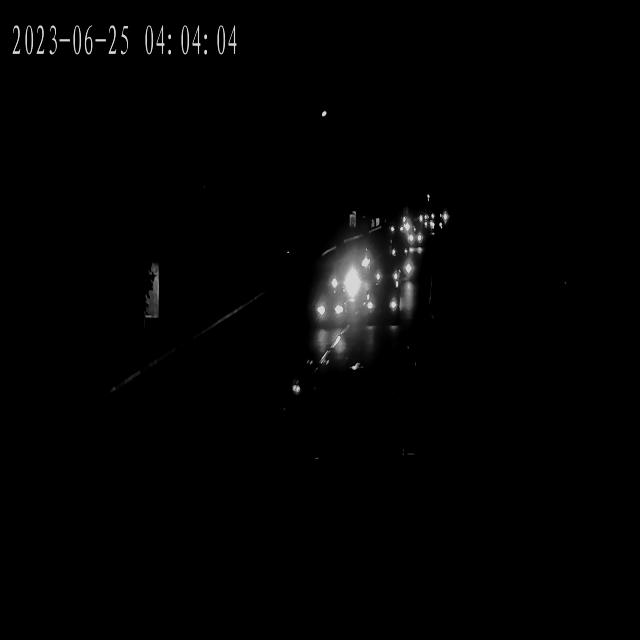Car: (369, 284, 403, 329), (310, 290, 350, 324), (328, 266, 366, 298), (369, 260, 405, 290), (387, 220, 407, 236), (407, 231, 426, 247), (416, 213, 432, 226)
